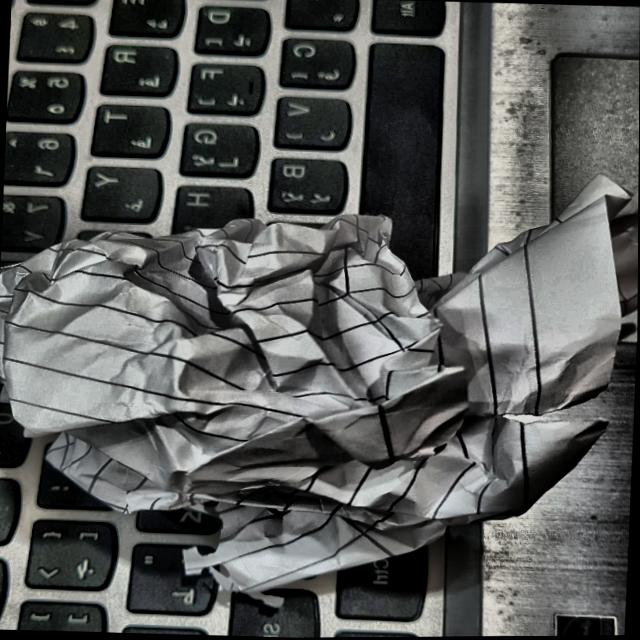paper: (0, 183, 639, 581)
